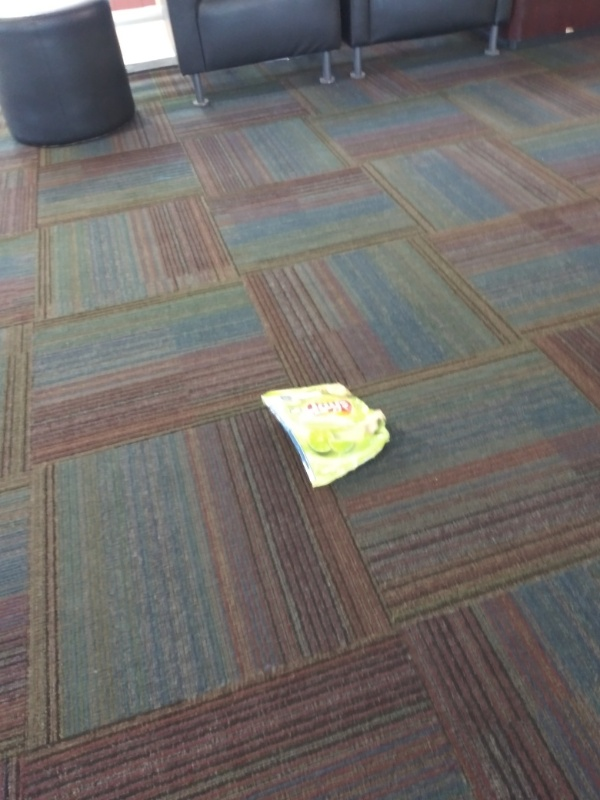bag: (253, 378, 396, 494)
